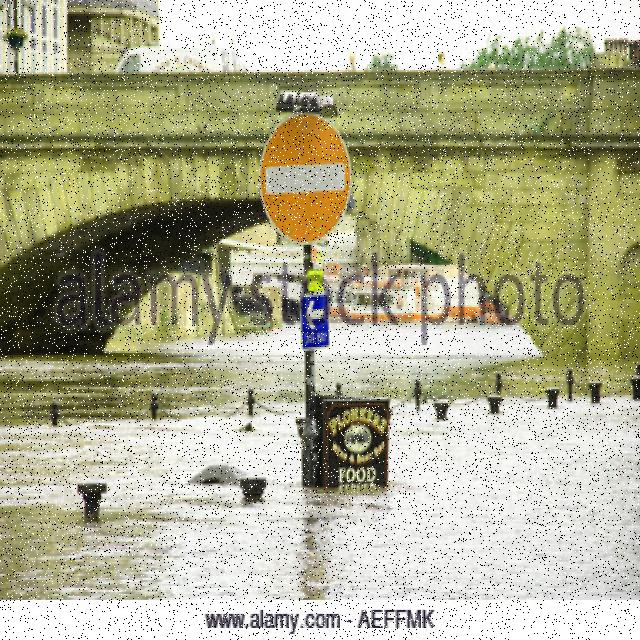no entry: (259, 112, 350, 243)
